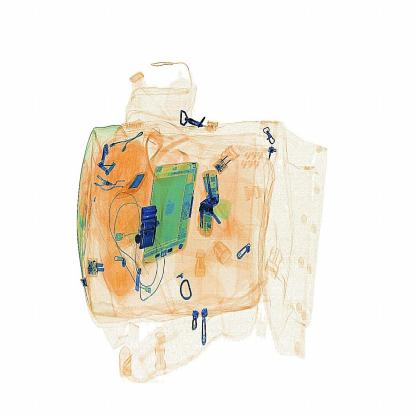pliers: (112, 162, 156, 202)
